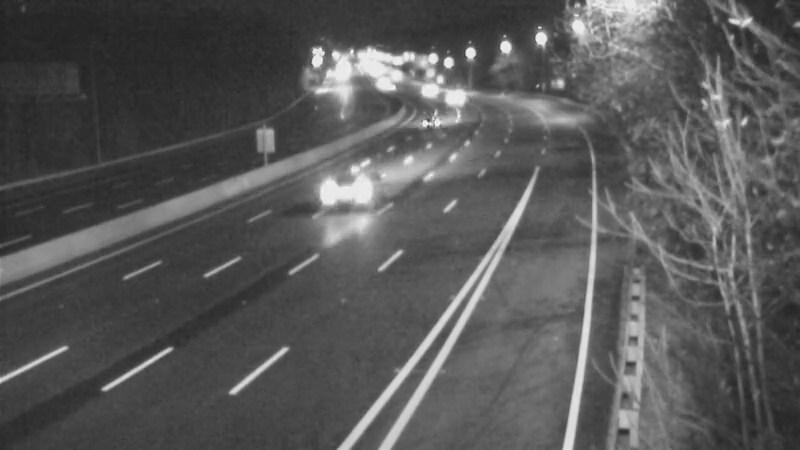vehicle: (309, 147, 389, 227), (400, 66, 450, 116), (431, 75, 481, 125), (407, 98, 457, 148)
